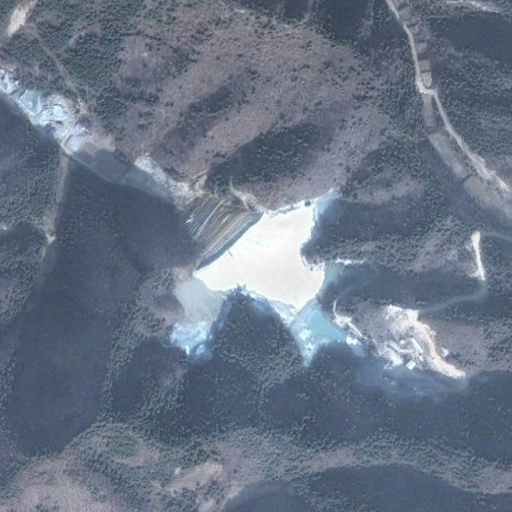tp: (171, 188, 369, 369)
